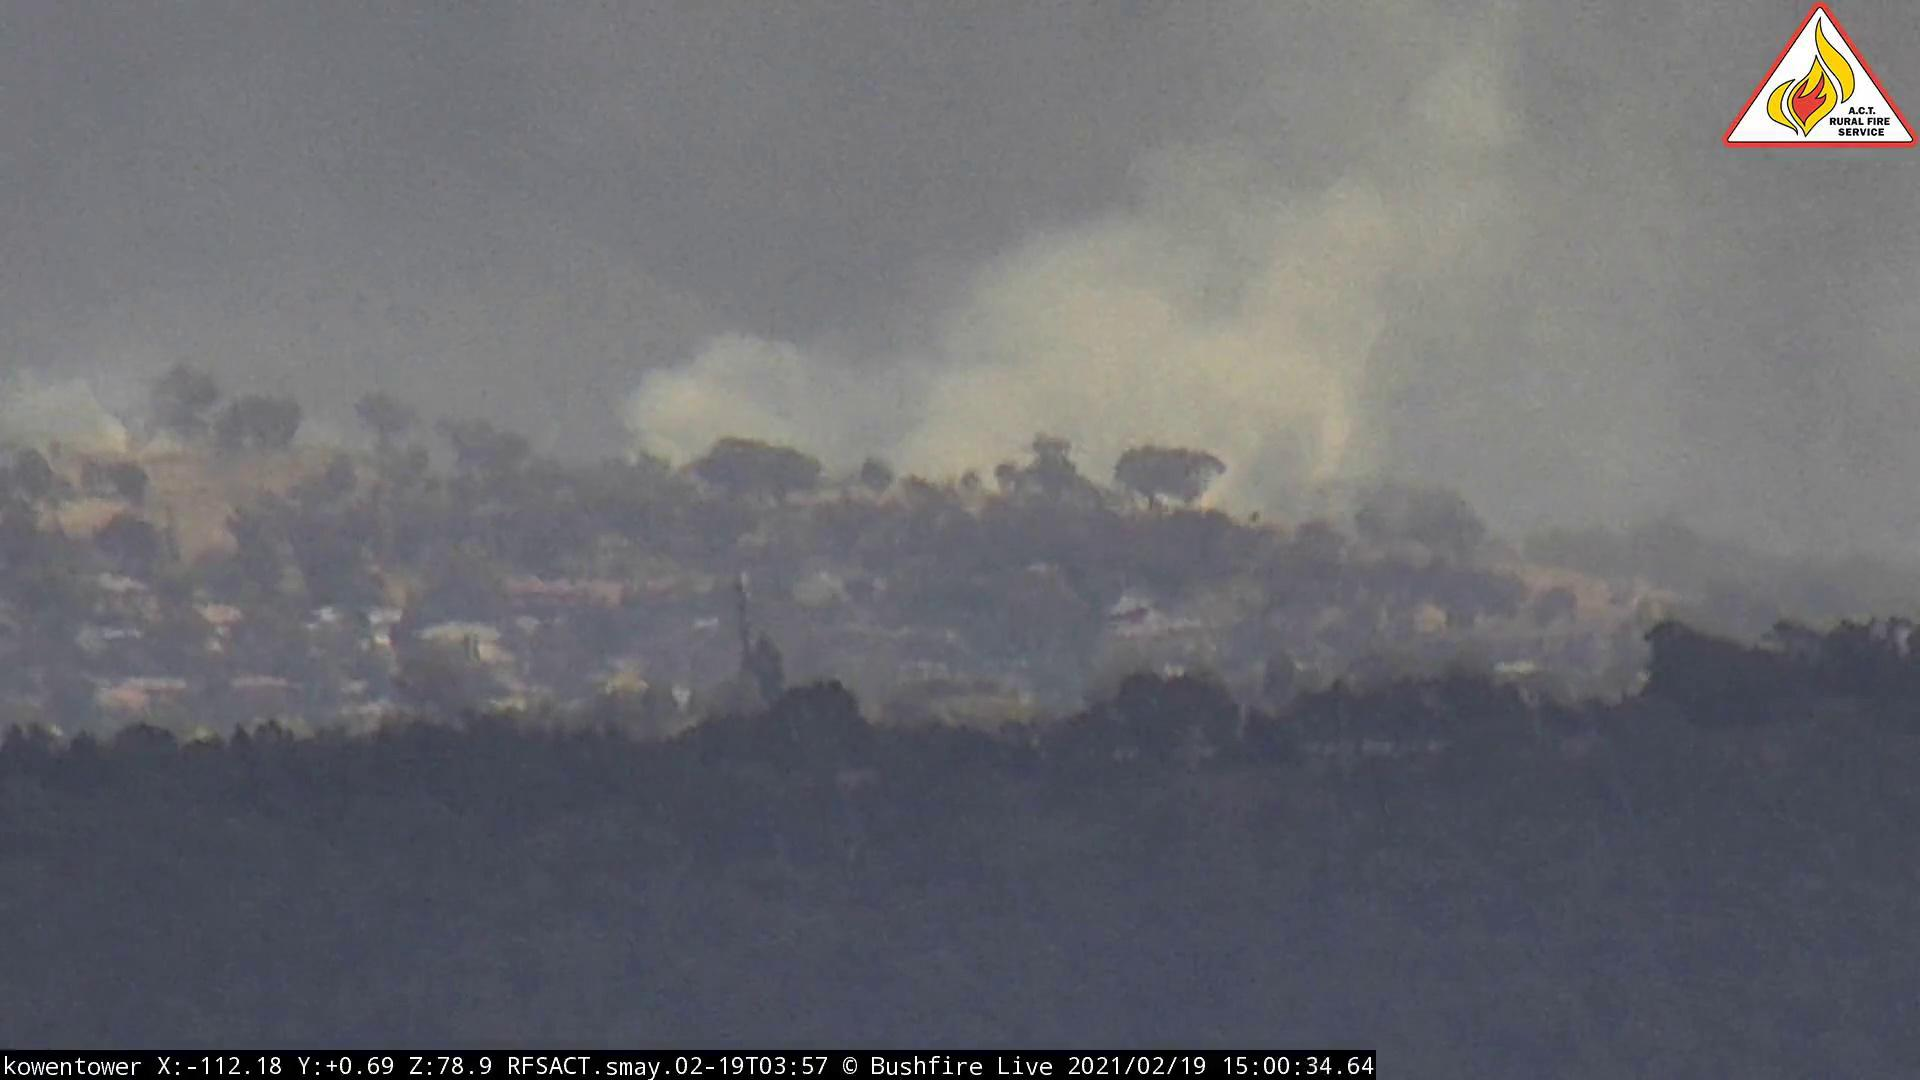Smoke: (589, 26, 1716, 495)
